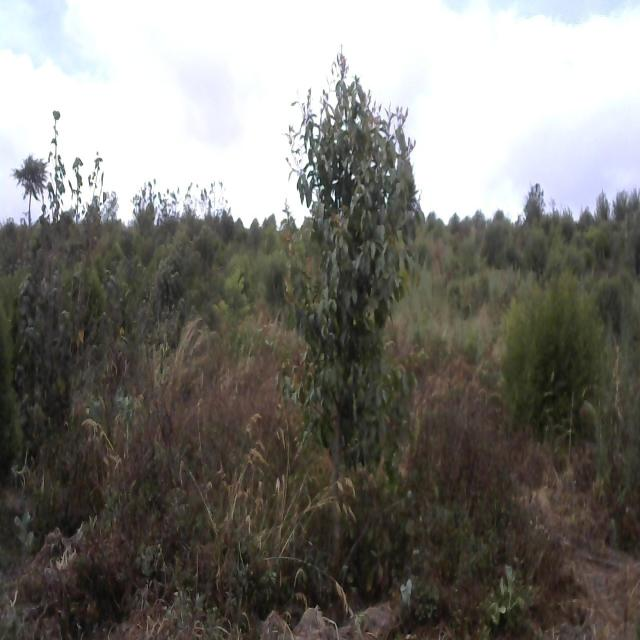Juniperus procesera: (8, 154, 51, 212)
Prunus Africana: (273, 9, 411, 482)
